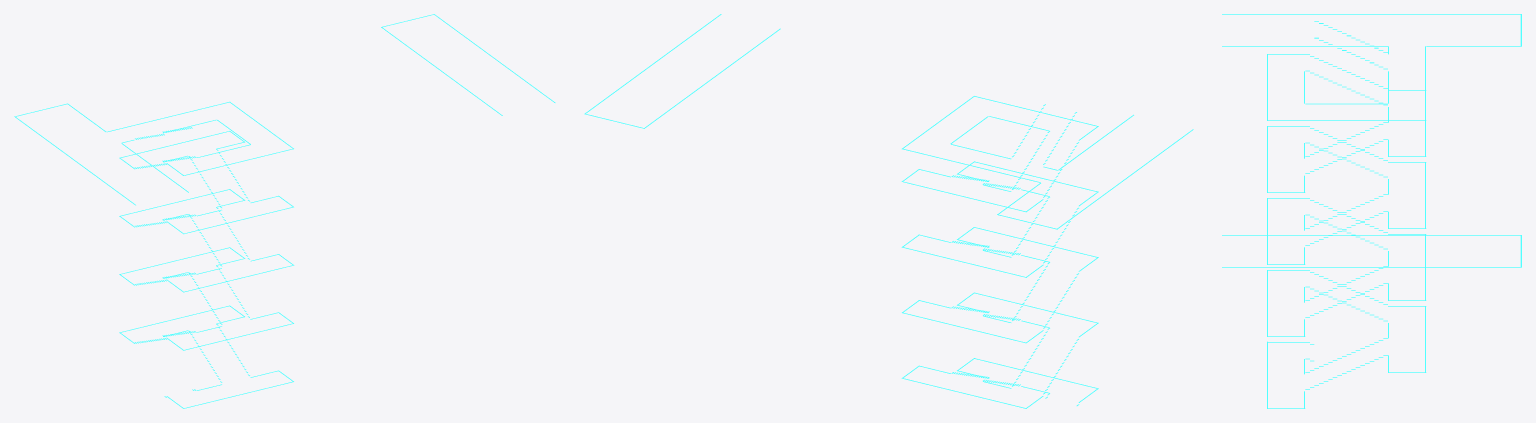
Rendered from v02-01-03-cyan.glb.
The picture shows the model from 3 angles, left to right: view 1: azimuth 30°, elevation 25°; view 2: azimuth 150°, elevation 25°; view 3: azimuth 270°, elevation 25°; orthographic projection. The views are drawn at different scales.
Parts seen in each view (by area): view 1: v02-01-03-cyan; view 2: v02-01-03-cyan; view 3: v02-01-03-cyan.
Boxes of the visible parts, x1,y1,x2,y2 form: v02-01-03-cyan: (14,14,555,408); v02-01-03-cyan: (584,14,1193,408); v02-01-03-cyan: (1222,14,1521,408).
Size of the model in its own units: 47 by 27.93 by 23.5.
